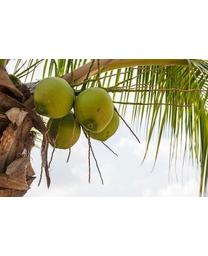coconut: (32, 77, 76, 119), (74, 88, 112, 134), (45, 115, 81, 148)
